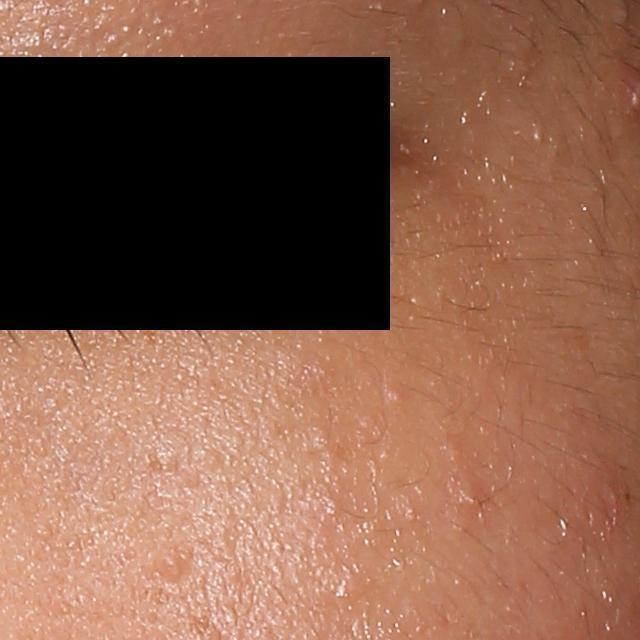comedo: (151, 548, 195, 585), (388, 385, 415, 406)
